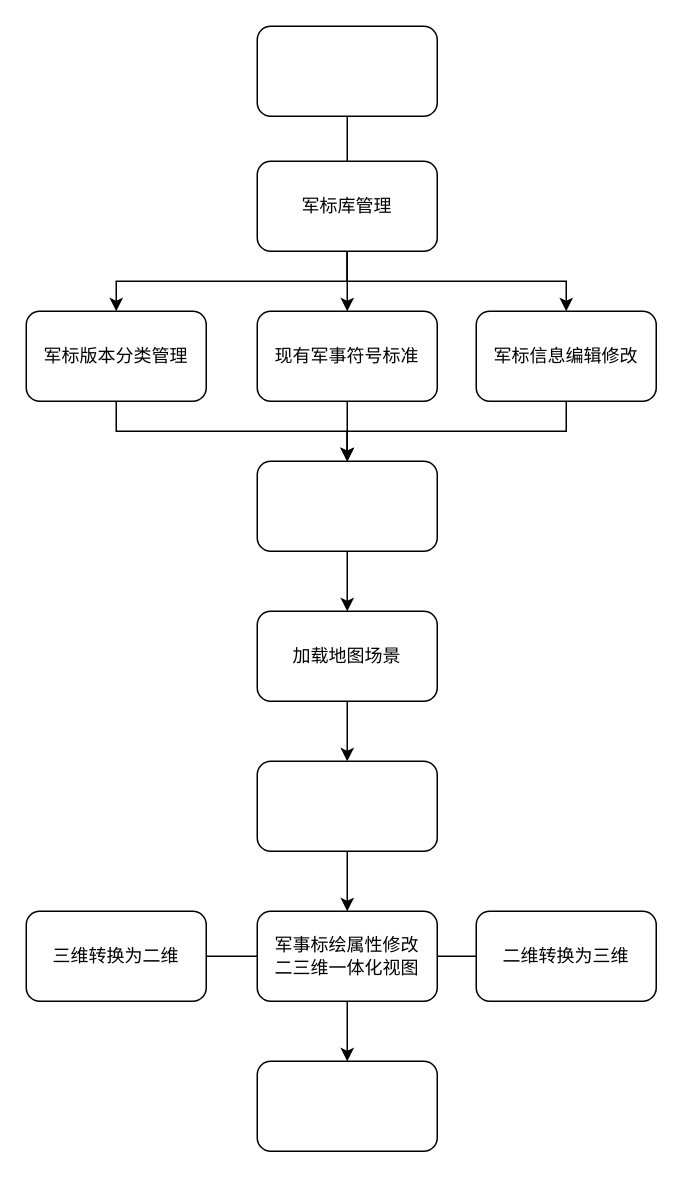
The diagram is 683 pixels wide and 1178 high, and some of its shapes have lost their labels. The shapes that lost their labels are listed below. From the top down, each one's centre as x and y in pixels, then its label:
At [346,70]: "军事标绘模块".
At [346,505]: "军标符号选择".
At [346,805]: "军标符号定位放置".
At [346,1105]: "军标信息保存输出".
